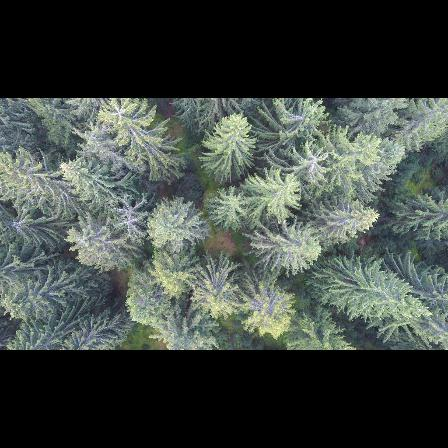Sick: (108, 193, 151, 234)
